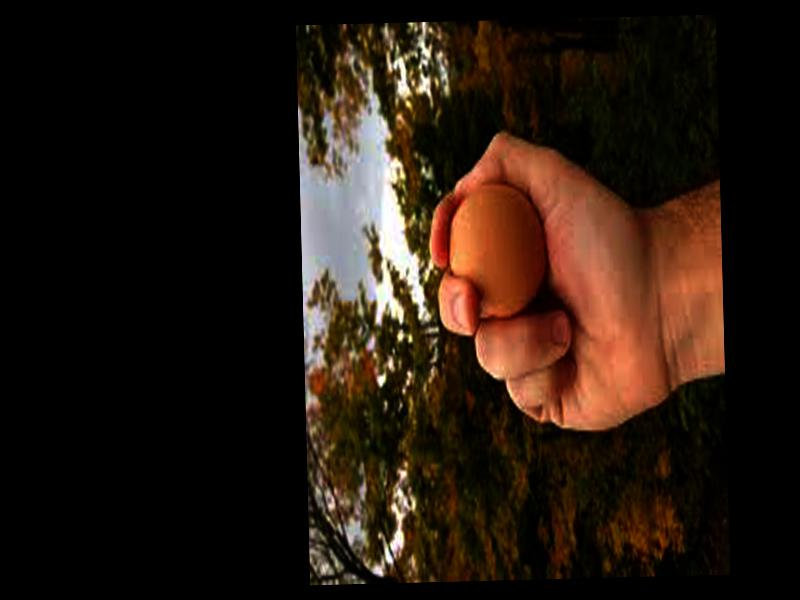Eggs: (447, 184, 547, 325)
